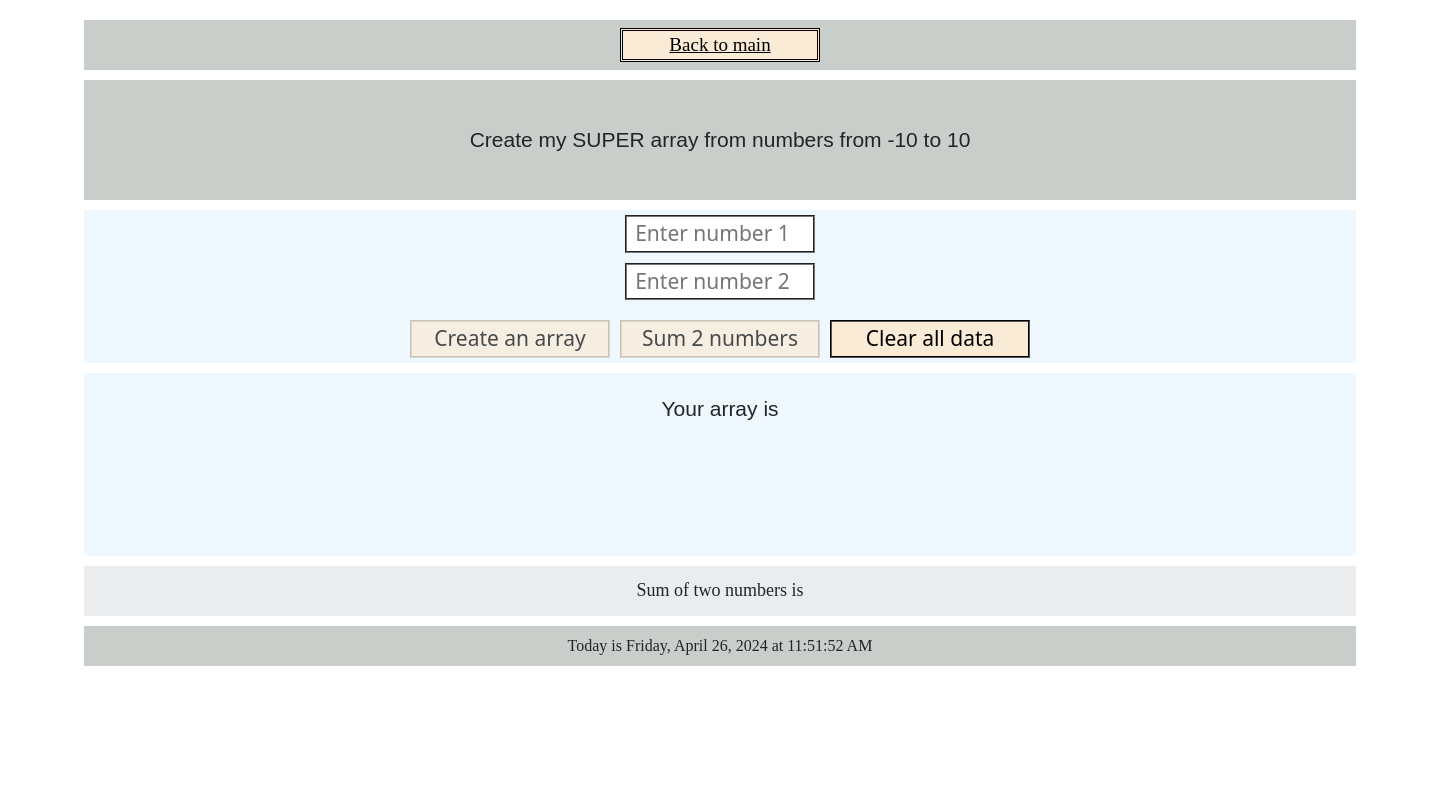
Test: check options - typing two items › input second item greater than required
In the number field with id "num1": [720, 234] box top-left (625, 215), bottom-right (815, 253), type "-9"
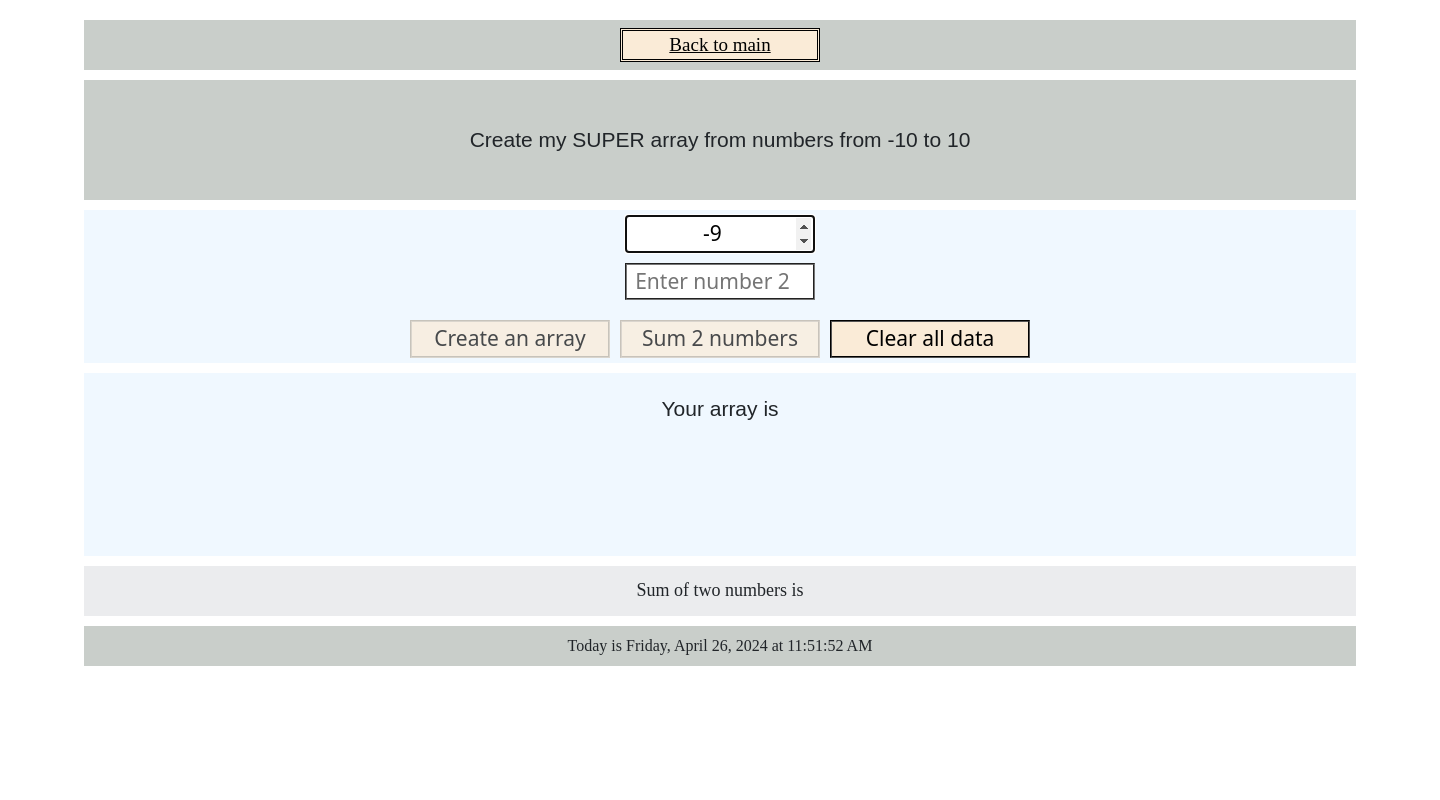
In the number field with id "num2": [720, 282] box top-left (625, 263), bottom-right (815, 301), type "11"
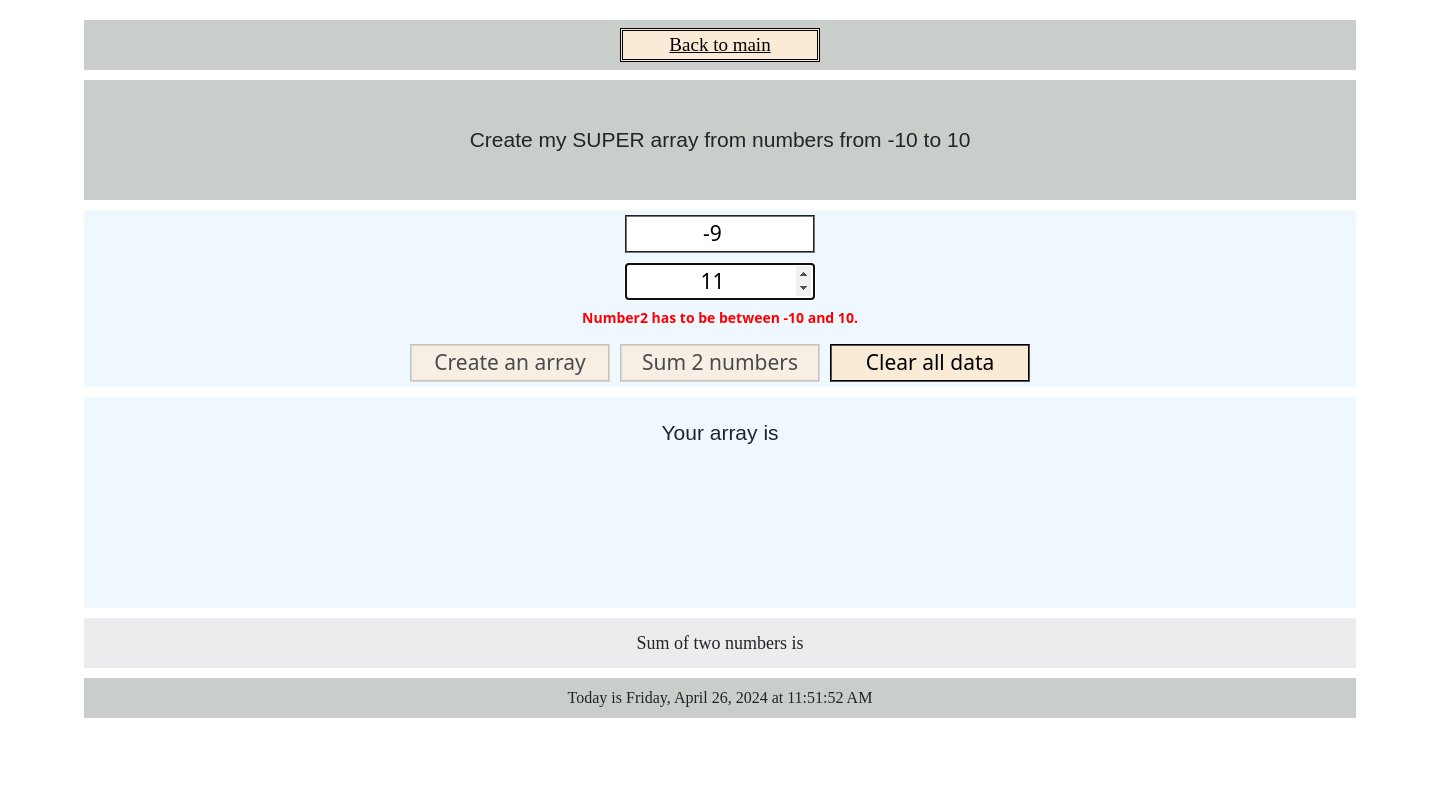
Expected: the button with id "createArray" is disabled, top-left (410, 344), bottom-right (610, 382)
Result: the text with id "invalidItem2" shows "Number2 has to be between -10 and 10" at top-left (582, 308), bottom-right (858, 327)
